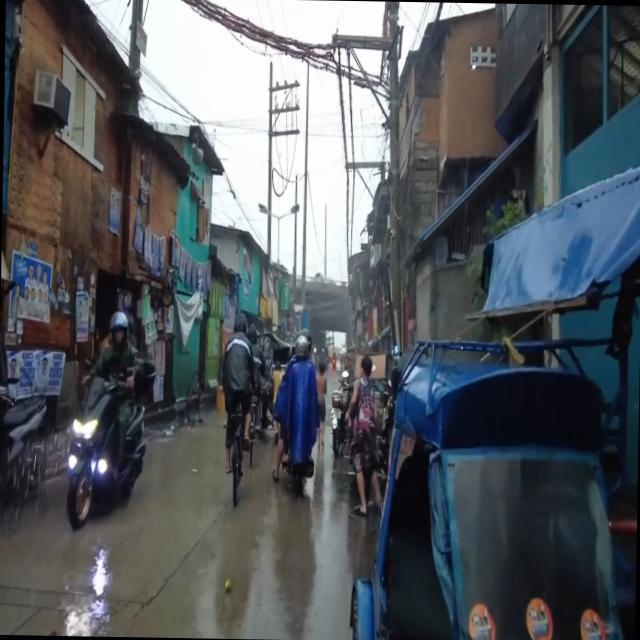half: (108, 309, 130, 345), (294, 333, 310, 362)
